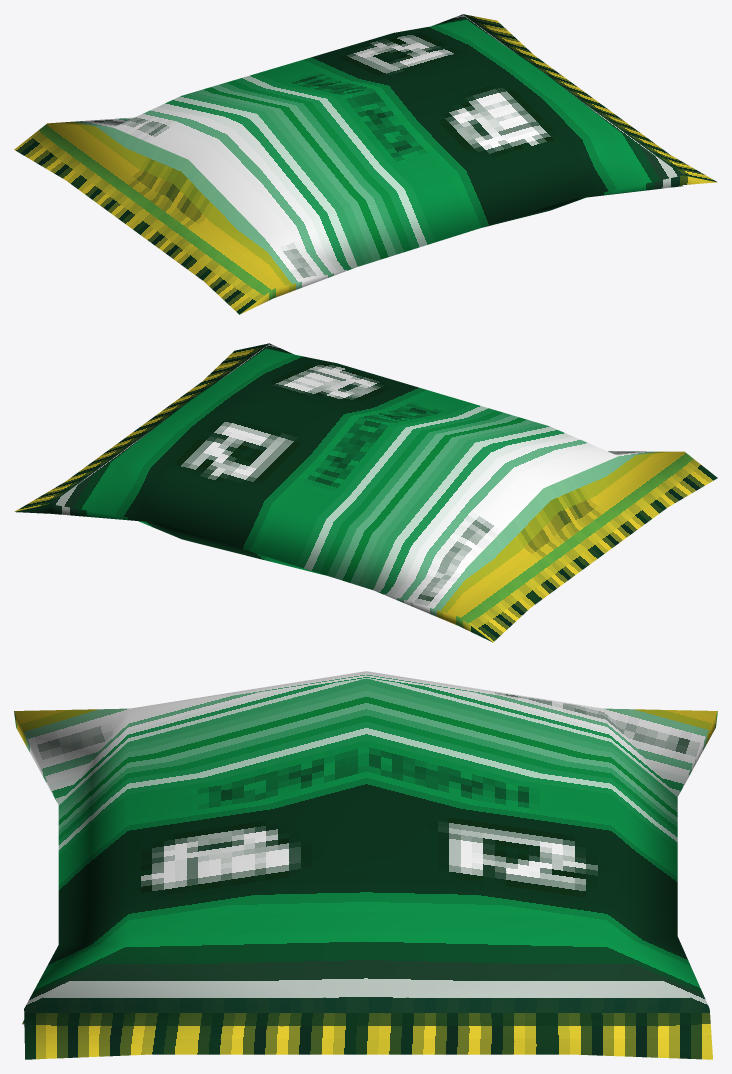
The model's file is Gunbang2.fbx.
3 views of the same model, one above another, from view 1: azimuth 30°, elevation 25°; view 2: azimuth 150°, elevation 25°; view 3: azimuth 270°, elevation 25° (orthographic). The views are drawn at different scales.
Parts seen in each view (by area): view 1: Chips001; view 2: Chips001; view 3: Chips001.
Boxes of the visible parts, box(x1,y1,x2,y2) form: Chips001: box(14, 14, 717, 314); Chips001: box(14, 343, 717, 642); Chips001: box(14, 671, 717, 1059).
Size of the model in its own units: 61.14 by 12.8 by 49.71.
